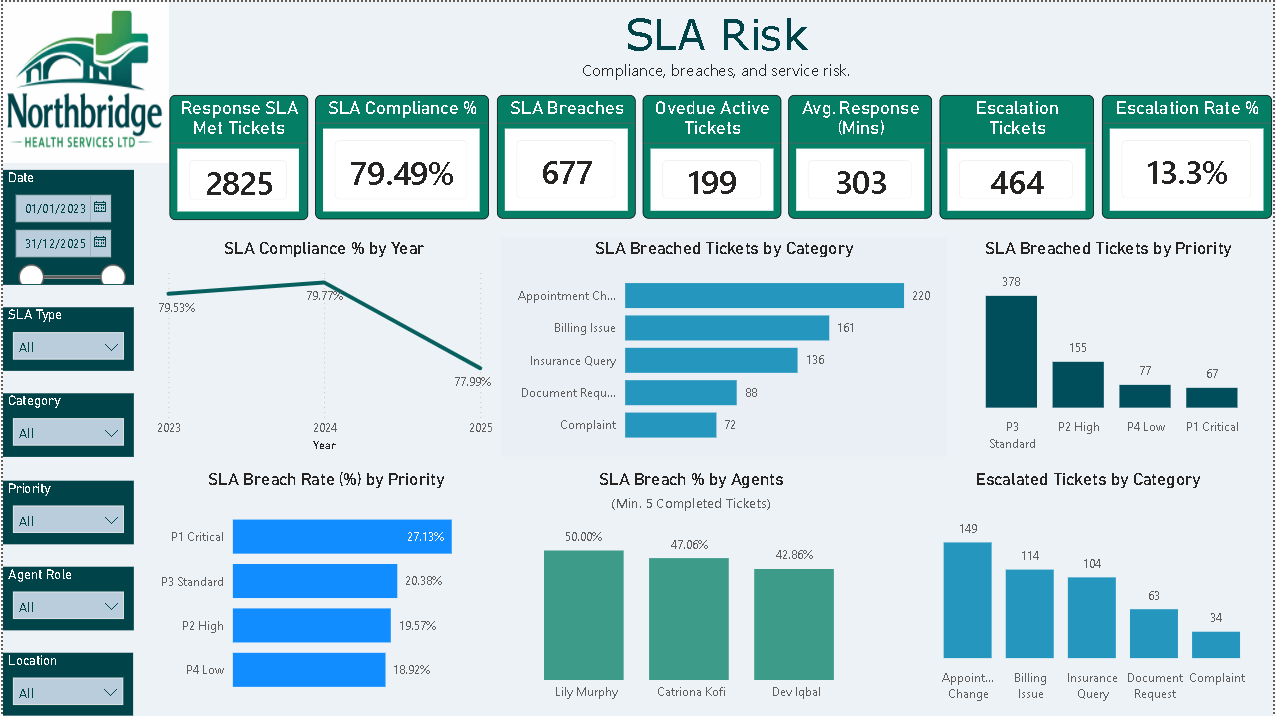

The page's visual inventory and layout, read from the dashboard file:
{"tool":"powerbi","page":{"name":"SLA Risk","canvas":[1280,720],"ordinal":2},"visuals":[{"type":"cardVisual","title":"SLA Compliance %","fields":{"Data":["DIM_AGENTS.SLA Compliance %"]},"box":[315,94,175,125.2],"z":0},{"type":"cardVisual","title":"Escalation Rate %","fields":{"Data":["_Measures.Escalation Rate %"]},"box":[1107.2,94,171.8,124.8],"z":1000},{"type":"cardVisual","title":"Response SLA Met Tickets","fields":{"Data":["_Measures.Response SLA Met Tickets"]},"box":[167.8,94,139.9,125.9],"z":2000},{"type":"cardVisual","title":"SLA Breaches","fields":{"Data":["_Measures.SLA Breached Tickets"]},"box":[497.3,94,140,125],"z":3000},{"type":"cardVisual","title":"Escalation Tickets","fields":{"Data":["_Measures.Escalated Tickets"]},"box":[944.2,94,155.7,125.1],"z":4000},{"type":"cardVisual","title":"Ovedue Active Tickets","fields":{"Data":["Agent Performance.Overdue Active Tickets"]},"box":[644.6,94,140,125],"z":5000},{"type":"lineChart","fields":{"Category":["DIM_DATE.DATE_KEY.Variation.Date Hierarchy.Year","DIM_DATE.DATE_KEY.Variation.Date Hierarchy.Quarter","DIM_DATE.DATE_KEY.Variation.Date Hierarchy.Month","DIM_DATE.DATE_KEY.Variation.Date Hierarchy.Day"],"Y":["DIM_AGENTS.SLA Compliance %"]},"box":[149.3,238.3,348.4,220.2],"z":6000},{"type":"clusteredBarChart","title":"SLA Breached Tickets by Category","fields":{"Category":["DIM_TICKET_CATEGORY.CATEGORY_NAME"],"Y":["_Measures.SLA Breached Tickets"]},"box":[502.3,238.3,449.5,220.2],"z":7000},{"type":"clusteredColumnChart","title":"SLA Breached Tickets by Priority","fields":{"Category":["DIM_PRIORITY.PRIORITY_LABEL"],"Y":["FCT_TICKETS.SLA Breached Tickets"]},"box":[949.7,238.5,328.9,224.1],"z":8000},{"type":"clusteredBarChart","title":"SLA Breach Rate (%) by Priority","fields":{"Category":["DIM_PRIORITY.PRIORITY_LABEL"],"Y":["DIM_AGENTS.SLA Breach %"]},"box":[149.7,471.4,352.5,243.4],"z":9000},{"type":"clusteredColumnChart","title":"SLA Breach % by Agents","fields":{"Category":["DIM_AGENTS.FULL_NAME"],"Y":["DIM_AGENTS.SLA Breach %"]},"box":[497.4,471.3,391.4,243],"z":10000},{"type":"clusteredColumnChart","title":"Escalated Tickets by Category","fields":{"Category":["DIM_TICKET_CATEGORY.CATEGORY_NAME"],"Y":["_Measures.Escalated Tickets"]},"box":[909.3,471.3,369.6,243],"z":11000},{"type":"slicer","title":"Priority","fields":{"Values":["DIM_PRIORITY.PRIORITY_LABEL"]},"box":[0,482,132,64],"z":12000},{"type":"slicer","title":"Date","fields":{"Values":["DIM_DATE.DATE_KEY"]},"box":[0,169.2,132,115],"z":13000},{"type":"slicer","title":"SLA Type","fields":{"Values":["DIM_CLIENTS.CLIENT_TYPE"]},"box":[0,307.5,132,64],"z":14000},{"type":"slicer","title":"Agent Role","fields":{"Values":["FCT_TICKETS.SLA STATUS"]},"box":[0,569.2,132,64],"z":15000},{"type":"slicer","title":"Category","fields":{"Values":["FCT_TICKETS.SLA STATUS"]},"box":[0,394.7,132,64],"z":16000},{"type":"slicer","title":"Location","fields":{"Values":["DIM_CLIENTS.REGION"]},"box":[0,656.5,131.3,63.5],"z":17000},{"type":"textbox","box":[358.1,0,721.7,93.7],"z":18000},{"type":"image","box":[0,0,167,162],"z":19000},{"type":"cardVisual","title":"Avg. Response (Mins)","fields":{"Data":["_Measures.Avg First Response Time (Minutes)"]},"box":[791.9,94,145,125],"z":20000}]}

Visuals, with their boxes in screenshot pixels (x1, y1, x2, y2), scaled from the page's 1280x720 canvas onto the 1276x716 screenshot:
"SLA Compliance %" cardVisual: {"left": 314, "top": 93, "right": 488, "bottom": 218}
"Escalation Rate %" cardVisual: {"left": 1104, "top": 93, "right": 1275, "bottom": 218}
"Response SLA Met Tickets" cardVisual: {"left": 167, "top": 93, "right": 307, "bottom": 219}
"SLA Breaches" cardVisual: {"left": 496, "top": 93, "right": 635, "bottom": 218}
"Escalation Tickets" cardVisual: {"left": 941, "top": 93, "right": 1096, "bottom": 218}
"Ovedue Active Tickets" cardVisual: {"left": 643, "top": 93, "right": 782, "bottom": 218}
lineChart - DIM_DATE.DATE_KEY.Variation.Date Hierarchy.Year x DIM_DATE.DATE_KEY.Variation.Date Hierarchy.Quarter: {"left": 149, "top": 237, "right": 496, "bottom": 456}
"SLA Breached Tickets by Category" clusteredBarChart: {"left": 501, "top": 237, "right": 949, "bottom": 456}
"SLA Breached Tickets by Priority" clusteredColumnChart: {"left": 947, "top": 237, "right": 1275, "bottom": 460}
"SLA Breach Rate (%) by Priority" clusteredBarChart: {"left": 149, "top": 469, "right": 501, "bottom": 711}
"SLA Breach % by Agents" clusteredColumnChart: {"left": 496, "top": 469, "right": 886, "bottom": 710}
"Escalated Tickets by Category" clusteredColumnChart: {"left": 906, "top": 469, "right": 1275, "bottom": 710}
"Priority" slicer: {"left": 0, "top": 479, "right": 132, "bottom": 543}
"Date" slicer: {"left": 0, "top": 168, "right": 132, "bottom": 283}
"SLA Type" slicer: {"left": 0, "top": 306, "right": 132, "bottom": 369}
"Agent Role" slicer: {"left": 0, "top": 566, "right": 132, "bottom": 630}
"Category" slicer: {"left": 0, "top": 393, "right": 132, "bottom": 456}
"Location" slicer: {"left": 0, "top": 653, "right": 131, "bottom": 715}
textbox: {"left": 357, "top": 0, "right": 1076, "bottom": 93}
image: {"left": 0, "top": 0, "right": 166, "bottom": 161}
"Avg. Response (Mins)" cardVisual: {"left": 789, "top": 93, "right": 934, "bottom": 218}
